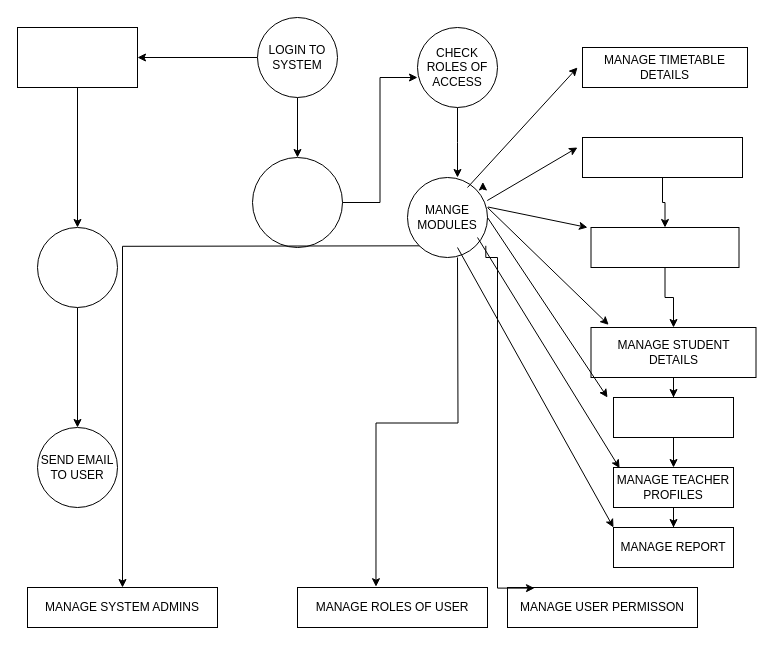
This 774x645 diagram has some shape labels left out. Each missing label, with the centre of its shape:
"ADMIN" belongs at (77,57).
"CHECK CREDENTIALS" belongs at (297,202).
"FORGOT PASSWORD" belongs at (77,267).
"MANAGE ATTENDANCE DETAILS" belongs at (662,157).
"MANAGE CLASS DETAILS" belongs at (664,247).
"MANAGE FEE DETAILS" belongs at (673,417).
